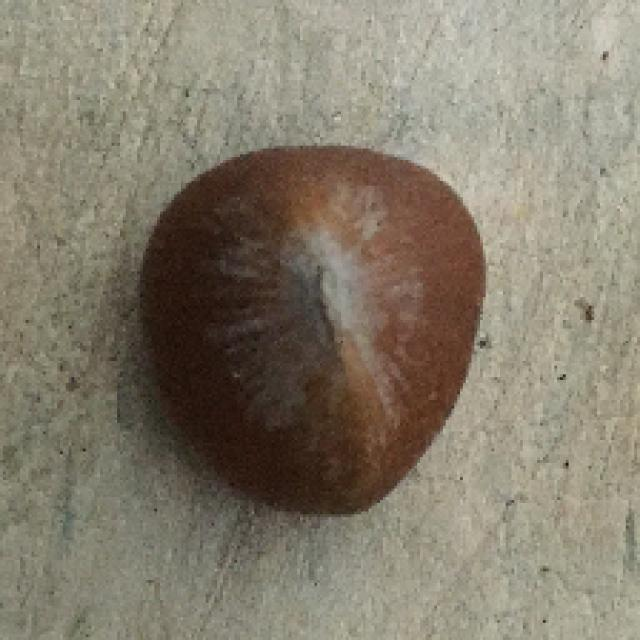QualityHazelnut: (132, 143, 491, 516)
